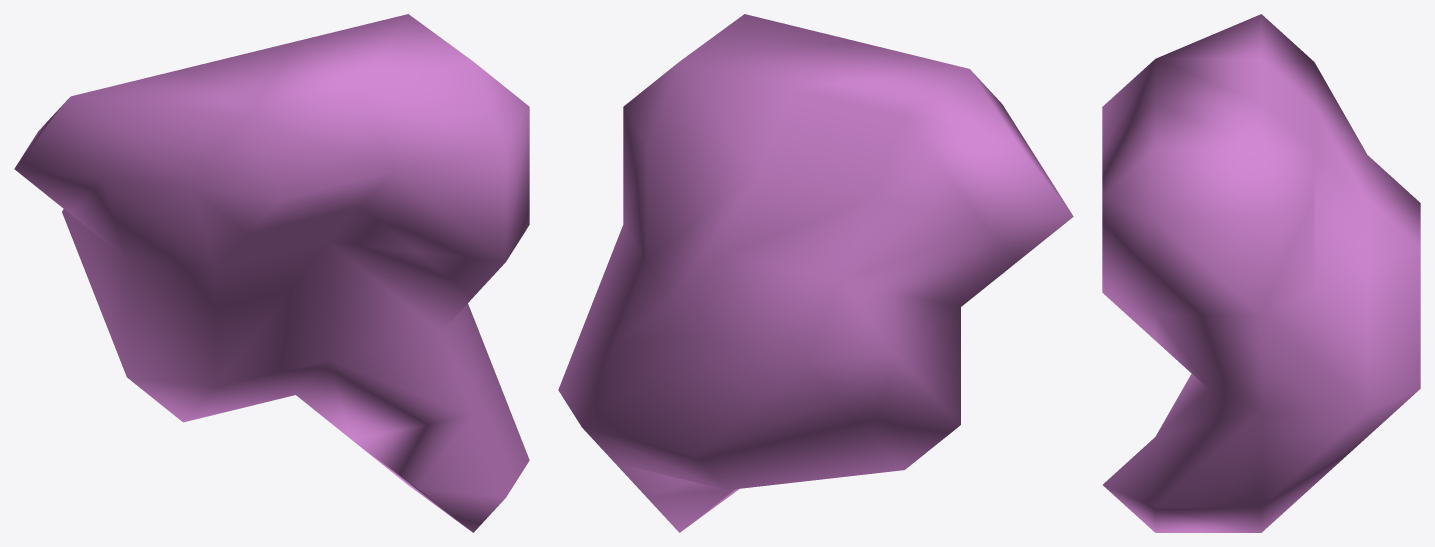
Rendered from spl-306.glb.
3 views of the same model, side by side, from view 1: azimuth 30°, elevation 25°; view 2: azimuth 150°, elevation 25°; view 3: azimuth 270°, elevation 25° (orthographic). The views are drawn at different scales.
Visible parts, largest first — view 1: spl-306; view 2: spl-306; view 3: spl-306.
Part boxes in pixels (bbox=[...]): spl-306: bbox=[14, 14, 529, 532]; spl-306: bbox=[558, 14, 1073, 532]; spl-306: bbox=[1102, 14, 1420, 532].
Bounding box in the file's own units: 4 × 4 × 3.
